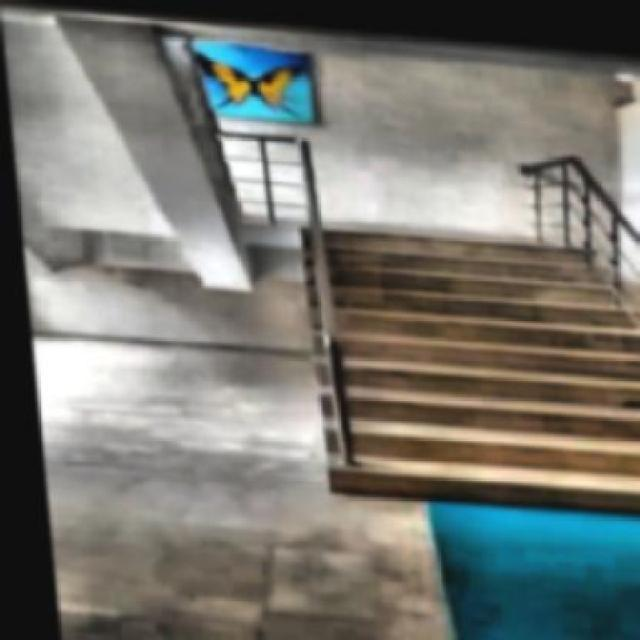stair: (290, 217, 638, 514)
